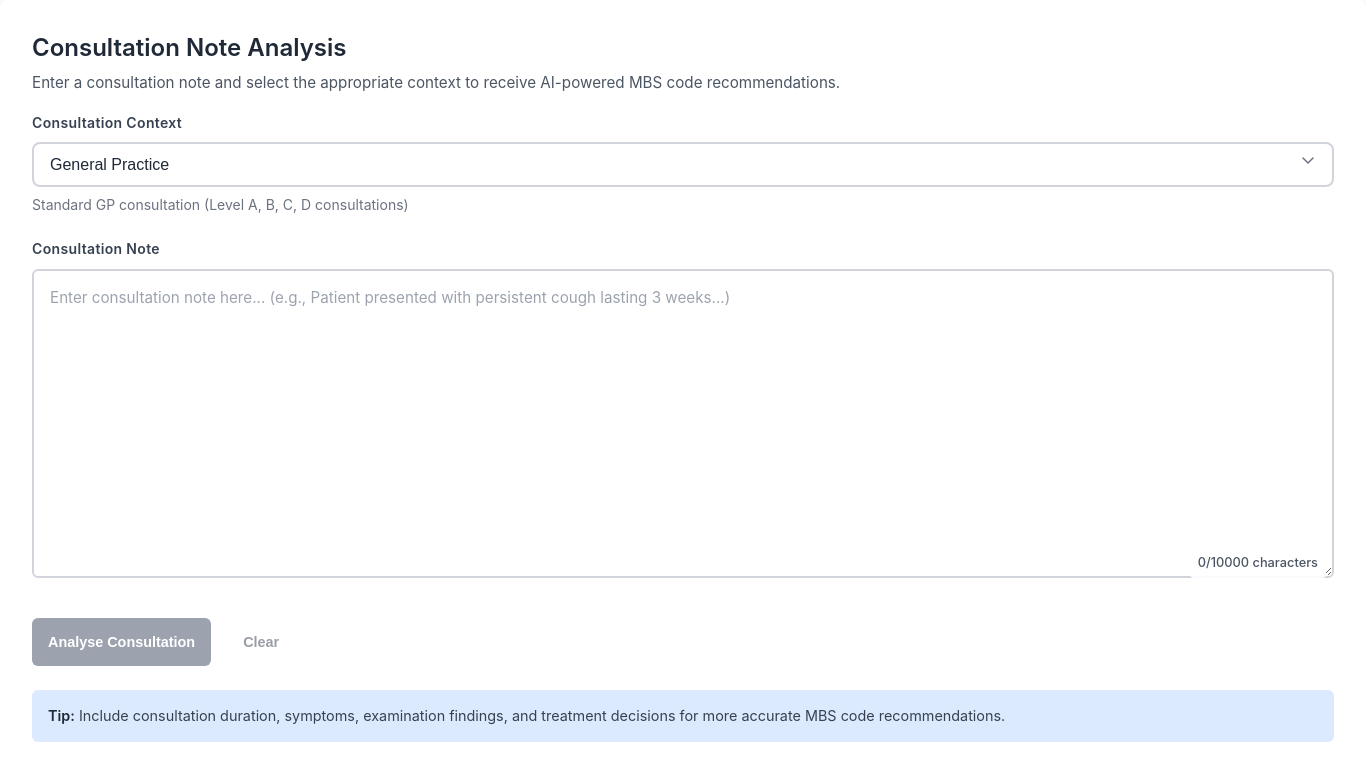
Test: ConsultationInput › User Interaction Flow › should enable analyse button only after valid input is entered
Expected: the button "Analyse Consultation" is disabled, [32,618,211,666]
Note: Type valid text
Type "Patient presents with chest pain lasting 2 hours" into the text box labelled "Consultation Note" at (683, 424), box [32,269,1334,578]
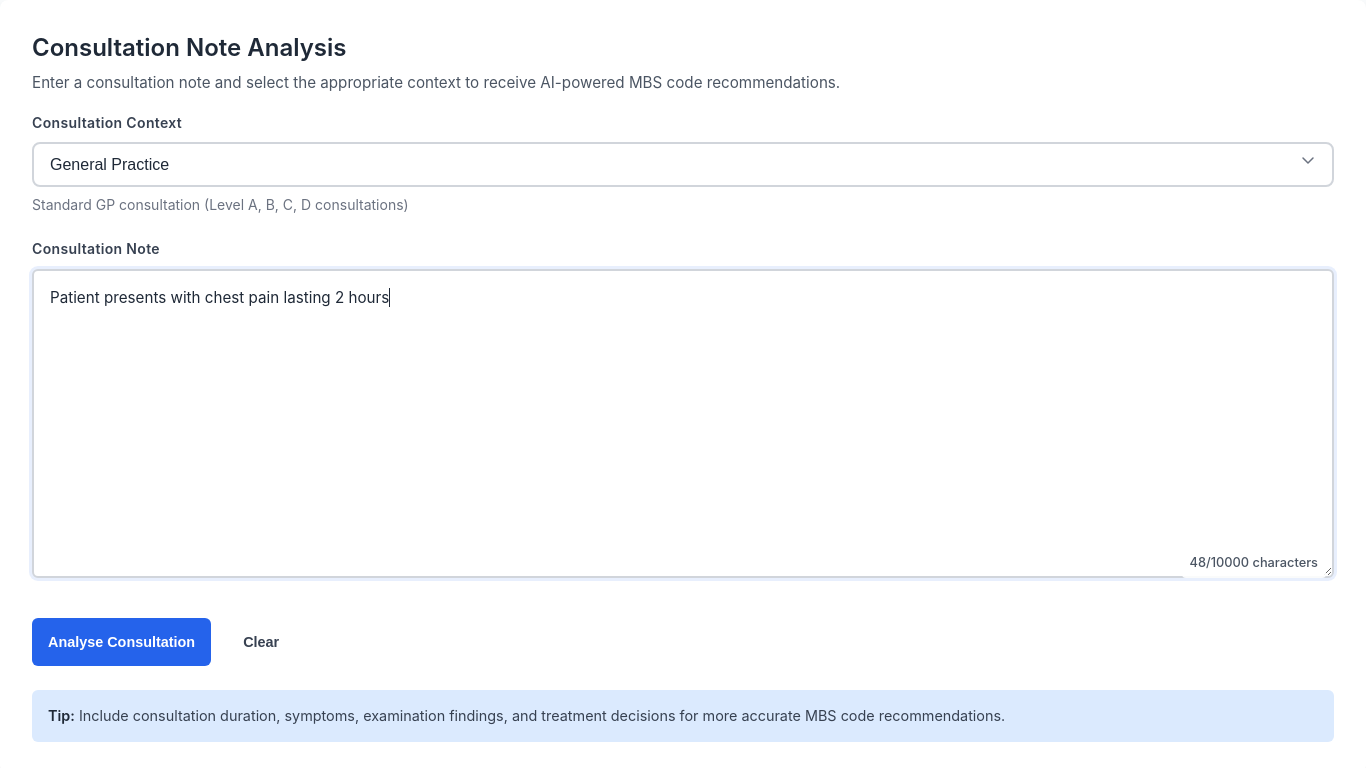
Now the button "Analyse Consultation" is enabled, box [32,618,211,666]
